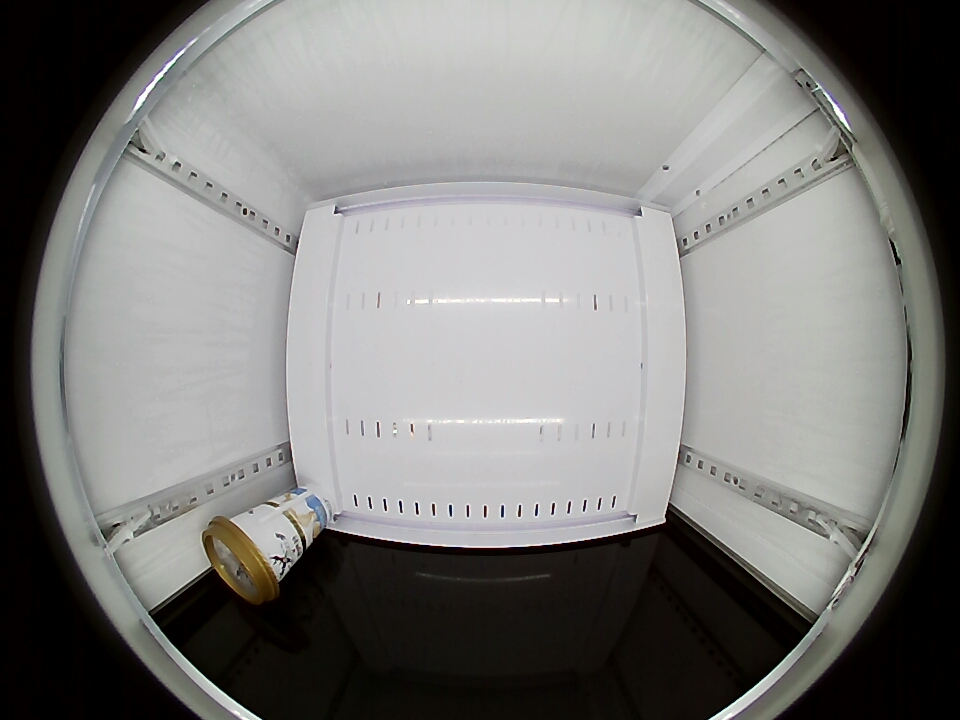lujiaoxiang: (201, 512, 285, 605)
